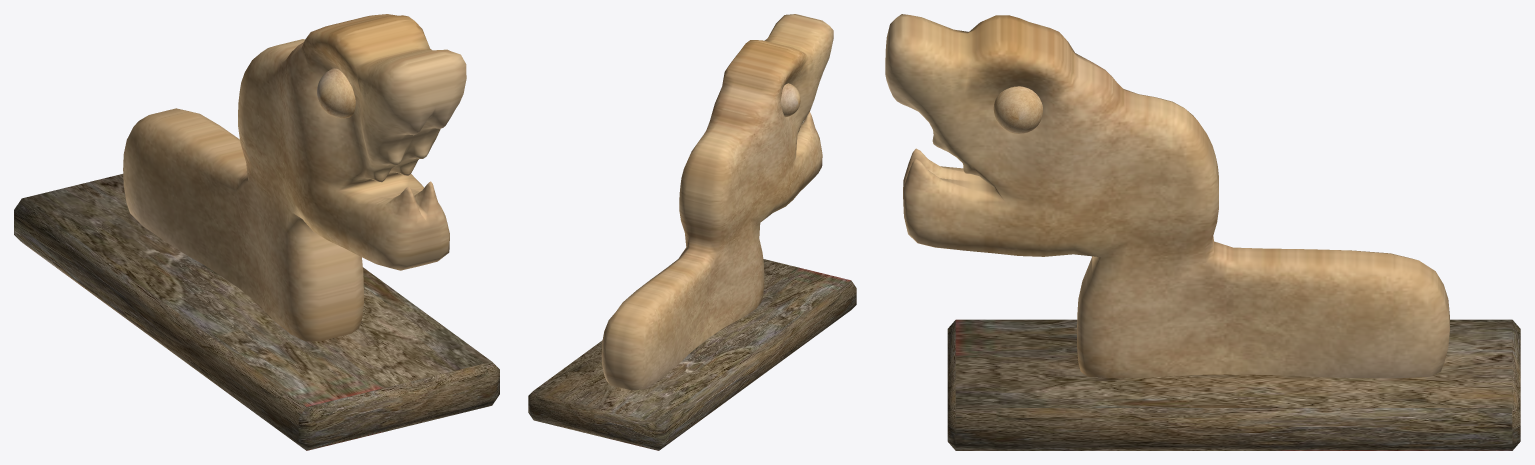
Rendered from Figurine3.FBX.
3 views of the same model, side by side, from view 1: azimuth 30°, elevation 25°; view 2: azimuth 150°, elevation 25°; view 3: azimuth 270°, elevation 25° (orthographic). The views are drawn at different scales.
Parts seen in each view (by area): view 1: Figurine3, Figurine3_Base, RT_MonsterEye; view 2: Figurine3, Figurine3_Base, RT_MonsterEye; view 3: Figurine3, Figurine3_Base, LT_MonsterEye.
Boxes of the visible parts, x1,y1,x2,y2 form: Figurine3: (123, 14, 466, 341); Figurine3_Base: (14, 174, 499, 450); RT_MonsterEye: (317, 68, 355, 118); Figurine3: (601, 14, 833, 390); Figurine3_Base: (528, 259, 856, 450); RT_MonsterEye: (780, 83, 800, 117); Figurine3: (885, 14, 1449, 378); Figurine3_Base: (947, 319, 1520, 450); LT_MonsterEye: (993, 86, 1042, 133).
Size of the model in its own units: 5.63 by 10.45 by 15.78.
2 materials, 2 textured.
